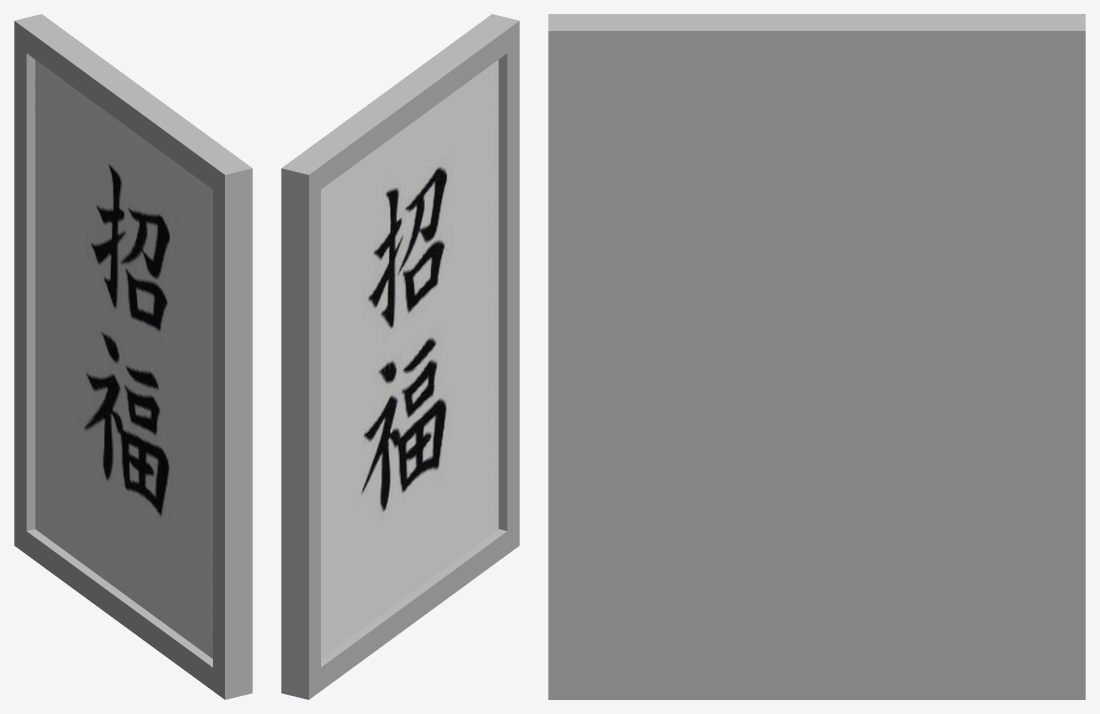
Rendered from Picture 1.FBX.
3 renders of one model, left to right at view 1: azimuth 30°, elevation 25°; view 2: azimuth 150°, elevation 25°; view 3: azimuth 270°, elevation 25°, orthographic. The views are drawn at different scales.
Parts seen in each view (by area): view 1: picture 1; view 2: picture 1; view 3: picture 1.
Part boxes in pixels (x1,y1,x2,y2): picture 1: (14, 14, 252, 699); picture 1: (281, 14, 519, 699); picture 1: (548, 14, 1085, 699).
Bounding box in the file's own units: 3.84 × 69.93 × 50.89.
